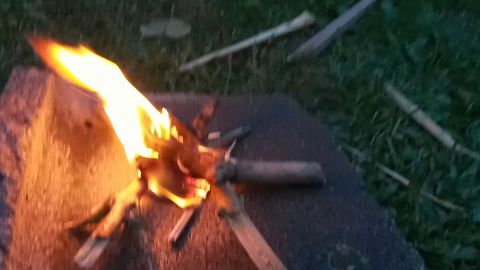fire: (24, 23, 234, 204)
